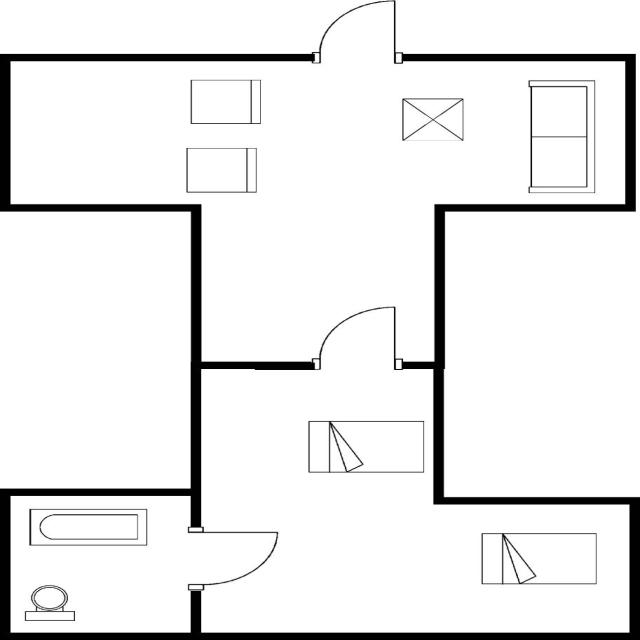bed: (302, 416, 429, 477), (476, 528, 600, 590)
coffee_table: (396, 93, 470, 145)
large_sink: (19, 579, 78, 625)
large_sofa: (522, 74, 600, 198)
small_sofa: (183, 74, 266, 129), (180, 144, 264, 198)
tub: (25, 503, 154, 549)
